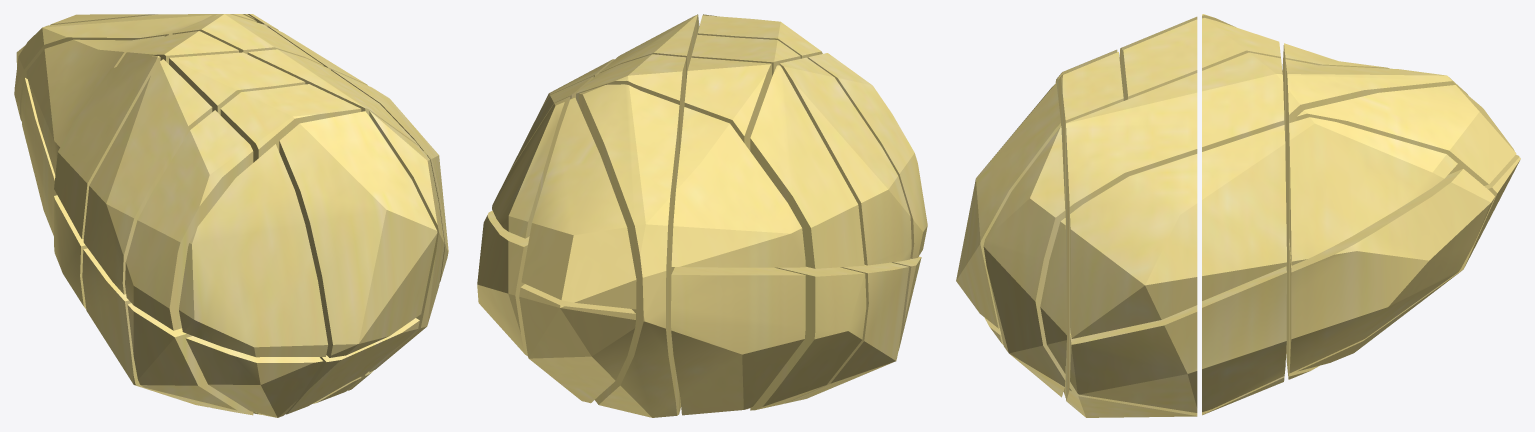
File: alu.fbx
The picture shows the model from 3 angles, left to right: view 1: azimuth 30°, elevation 25°; view 2: azimuth 150°, elevation 25°; view 3: azimuth 270°, elevation 25°; orthographic projection. The views are drawn at different scales.
Parts seen in each view (by area): view 1: real potato.007, real potato.019, real potato.022, real potato.010, real potato.020, real potato.011, real potato.016, real potato.008, real potato.023, real potato.017, real potato.015, real potato.006 (+9 smaller); view 2: real potato.017, real potato.001, real potato.011, real potato.018, real potato.020, real potato.010, real potato.004, real potato, real potato.021, real potato.003, real potato.022, real potato.014 (+6 smaller); view 3: real potato.004, real potato.005, real potato.012, real potato.002, real potato.006, real potato.018, real potato.007, real potato.009, real potato.017, real potato.015, real potato.008, real potato.013 (+3 smaller).
Boxes of the visible parts, left/top/right/bottom form: real potato.007: left=279, top=111, right=437, bottom=414; real potato.019: left=179, top=144, right=327, bottom=357; real potato.022: left=125, top=110, right=253, bottom=330; real potato.010: left=83, top=59, right=212, bottom=294; real potato.020: left=54, top=56, right=160, bottom=238; real potato.011: left=26, top=35, right=164, bottom=174; real potato.016: left=185, top=336, right=323, bottom=417; real potato.008: left=220, top=84, right=361, bottom=414; real potato.023: left=127, top=303, right=253, bottom=415; real potato.017: left=14, top=14, right=256, bottom=120; real potato.015: left=169, top=52, right=305, bottom=114; real potato.006: left=369, top=111, right=444, bottom=372; real potato.017: left=579, top=84, right=679, bottom=417; real potato.001: left=671, top=267, right=805, bottom=415; real potato.011: left=671, top=107, right=805, bottom=267; real potato.018: left=521, top=97, right=636, bottom=309; real potato.020: left=750, top=65, right=864, bottom=268; real potato.010: left=779, top=57, right=911, bottom=265; real potato.004: left=477, top=96, right=570, bottom=356; real potato: left=519, top=284, right=635, bottom=403; real potato.021: left=750, top=266, right=866, bottom=410; real potato.003: left=785, top=262, right=909, bottom=403; real potato.022: left=808, top=53, right=927, bottom=258; real potato.014: left=684, top=57, right=771, bottom=150; real potato.004: left=1289, top=117, right=1494, bottom=373; real potato.005: left=1070, top=154, right=1197, bottom=412; real potato.012: left=1202, top=125, right=1286, bottom=411; real potato.002: left=1066, top=73, right=1197, bottom=417; real potato.006: left=983, top=126, right=1065, bottom=397; real potato.018: left=1296, top=85, right=1516, bottom=185; real potato.007: left=956, top=83, right=1060, bottom=344; real potato.009: left=1202, top=52, right=1284, bottom=415; real potato.017: left=1285, top=59, right=1468, bottom=379; real potato.015: left=1122, top=19, right=1197, bottom=100; real potato.008: left=1058, top=52, right=1123, bottom=397; real potato.013: left=1040, top=218, right=1066, bottom=373.
Size of the model in its own units: 0.0876 by 0.0826 by 0.1253.
